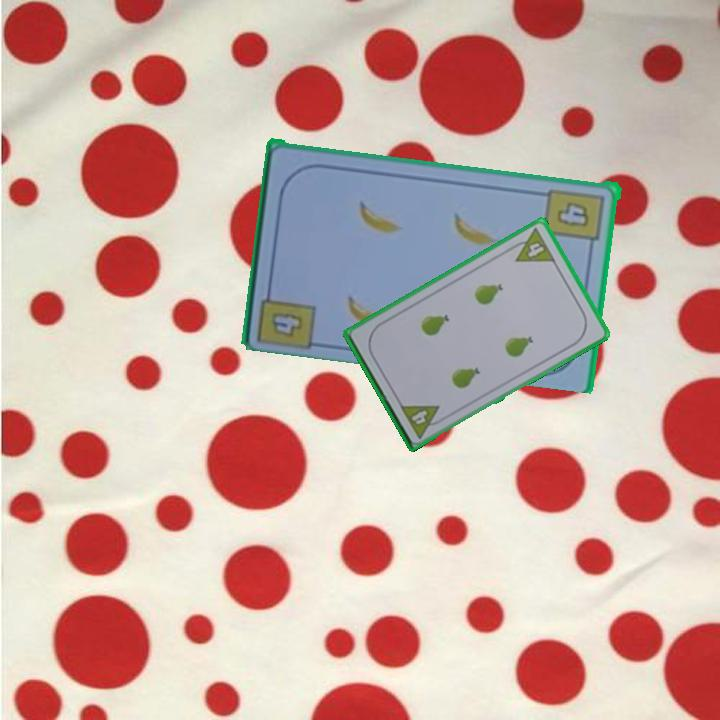4b: (254, 278, 320, 349), (542, 184, 608, 252)
4p: (506, 224, 558, 265), (396, 401, 448, 441)
